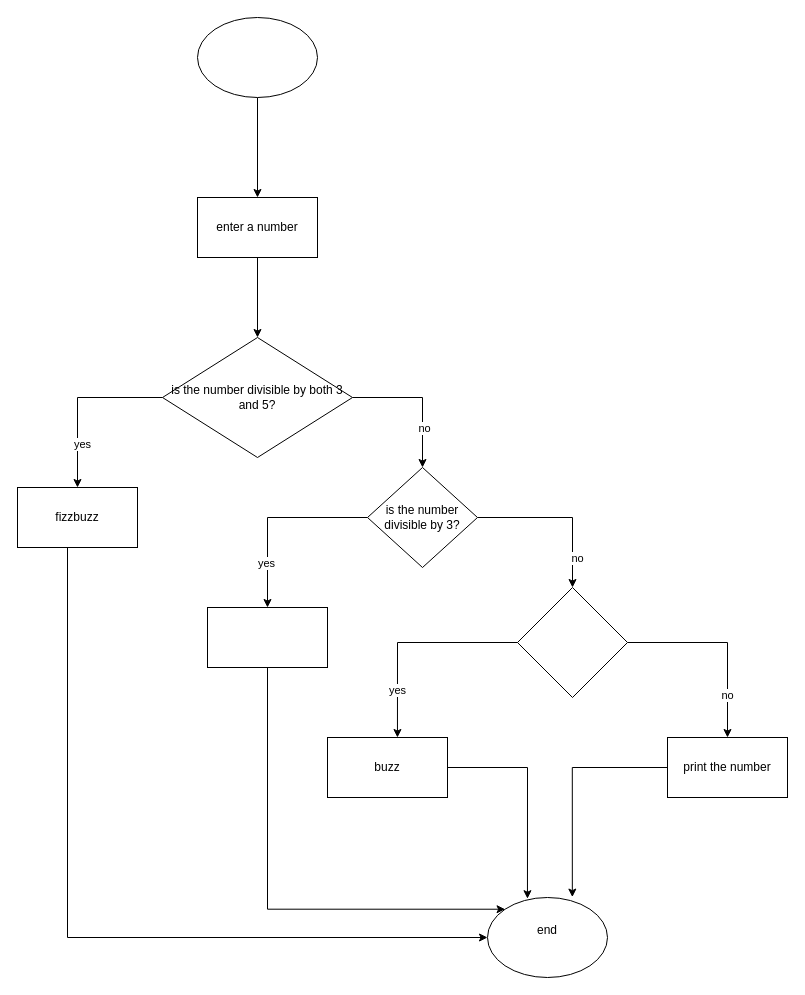
This 805x995 diagram has some shape labels left out. The centre of each missing label's shape, as x and y in pixels:
"fizz" goes at pixel 267 637.
"is the number divisible by 5?" goes at pixel 572 642.
"start" goes at pixel 257 57.
